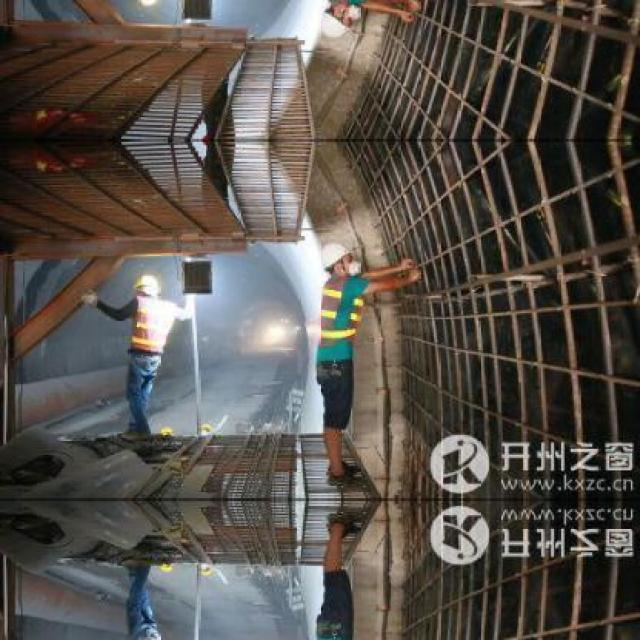helmet: (318, 242, 351, 273), (132, 276, 163, 292)
